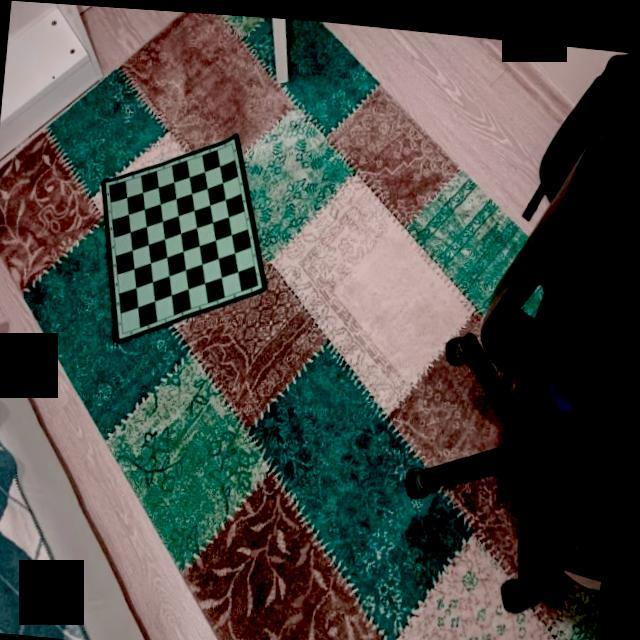chess-table-corners: (106, 176, 118, 191), (227, 134, 238, 147), (256, 274, 266, 286), (122, 325, 131, 336)
